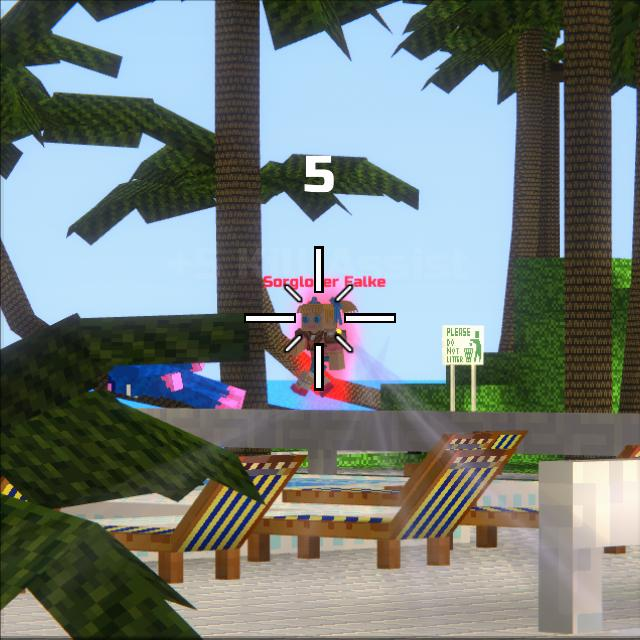Enemy: (295, 302, 348, 399)
